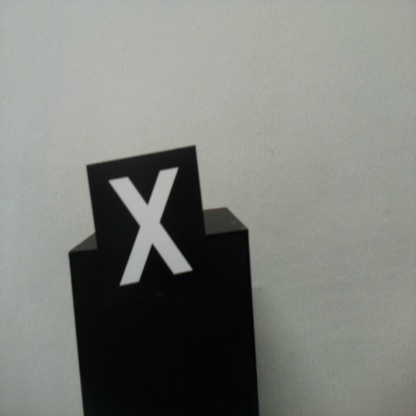id_13: (85, 162, 210, 295)
